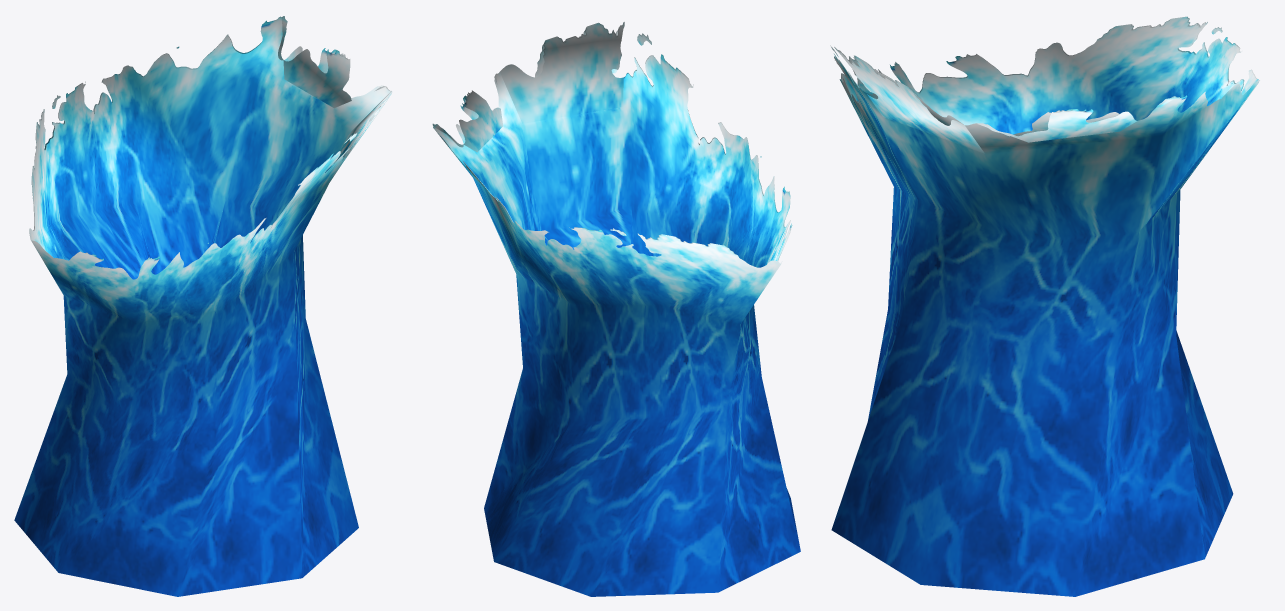
The model's file is bolang_01.FBX.
The picture shows the model from 3 angles, left to right: view 1: azimuth 30°, elevation 25°; view 2: azimuth 150°, elevation 25°; view 3: azimuth 270°, elevation 25°; orthographic projection. The views are drawn at different scales.
Visible parts, largest first — view 1: bolang_01; view 2: bolang_01; view 3: bolang_01.
Boxes of the visible parts, bbox=[...] form: bolang_01: bbox=[14, 16, 392, 596]; bolang_01: bbox=[432, 22, 800, 596]; bolang_01: bbox=[830, 16, 1259, 596].
Bounding box in the file's own units: 18.64 × 17.61 × 23.43.
Materials: 1 (1 with a texture image).
